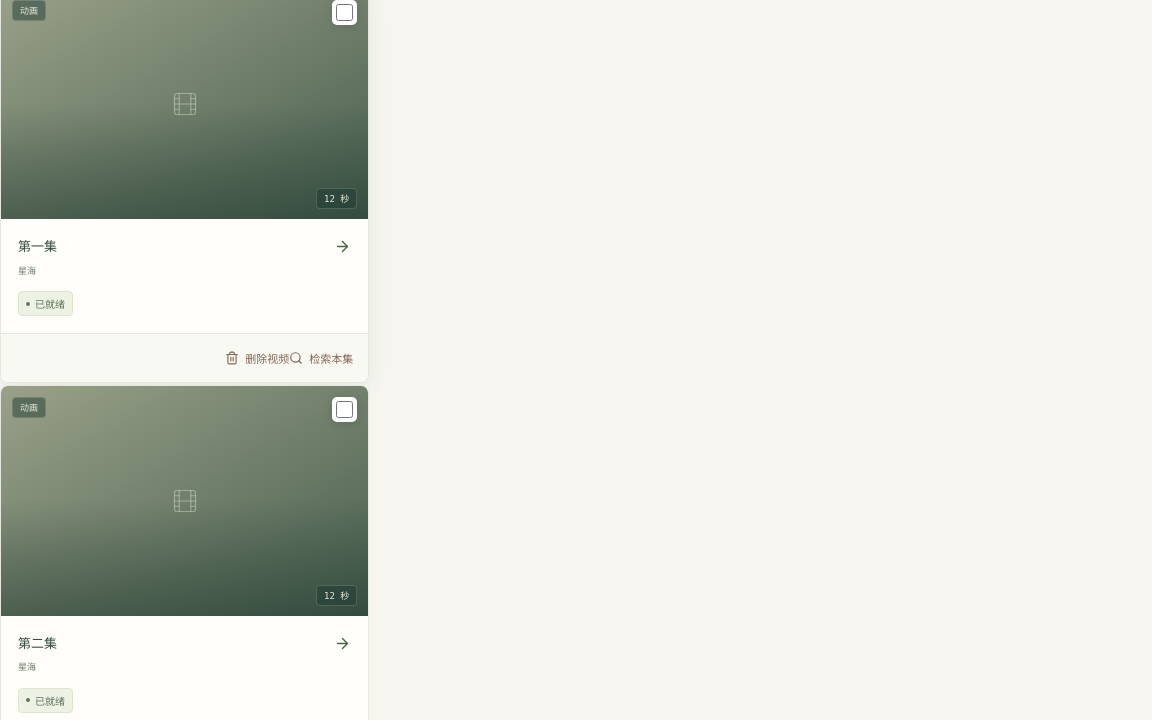
it: Deletion entry points and safe scope confirmation › offers an always-present card action and defaults to application data only
(page scrolled)
Click the button with aria-label "删除 第一集": (257, 358) 225,343 -> 289,373
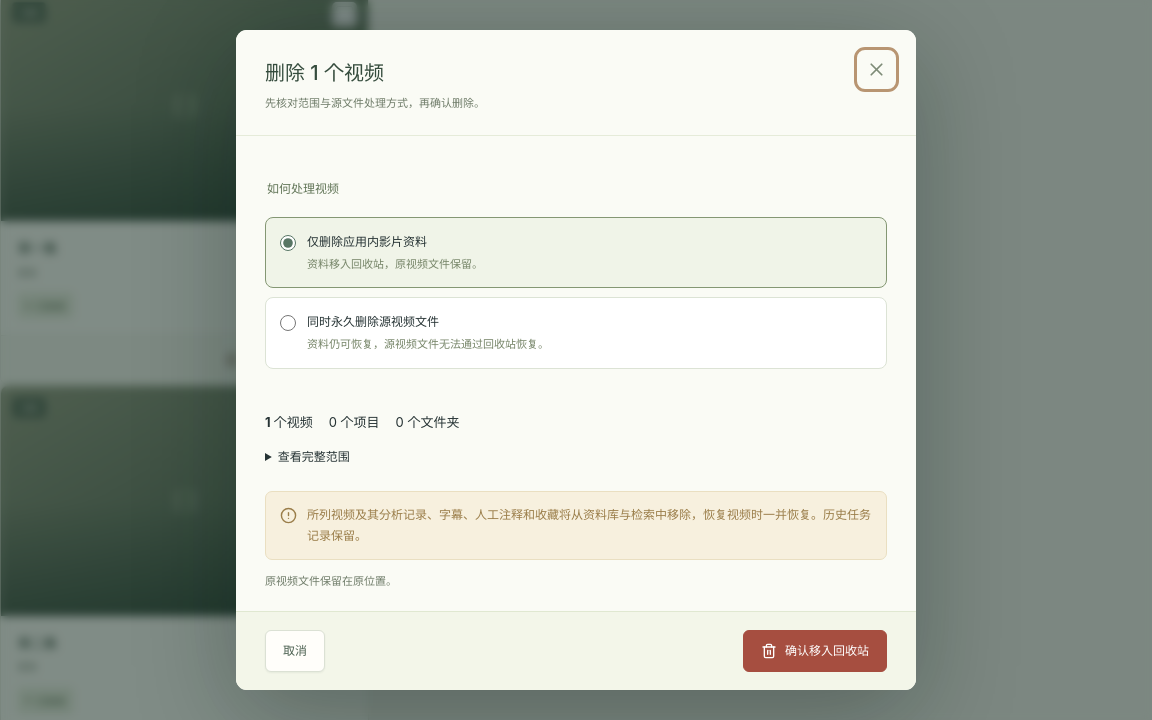
Now the text "1 个视频" is shown, box 265,411 -> 313,435
Now the radio button labelled "仅删除应用内影片资料 资料移入回收站，原视频文件保留。" is checked, box 280,235 -> 296,251
Click the button "确认移入回收站": (815, 651) 743,630 -> 887,672
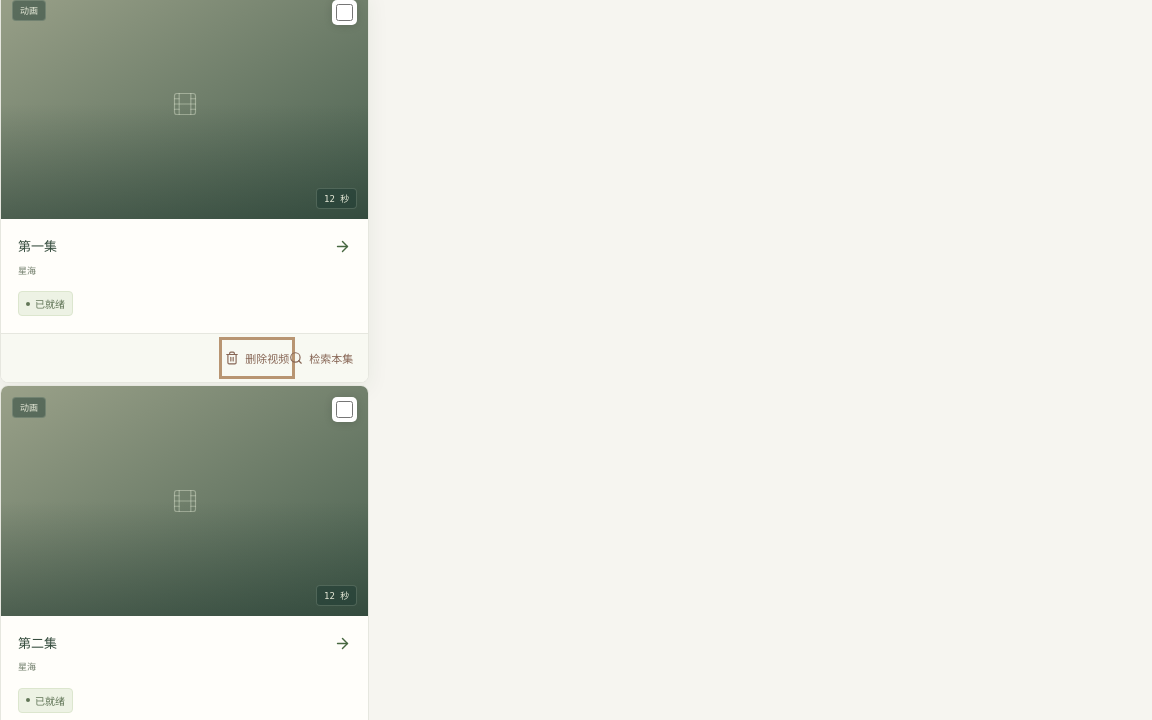
Now the dialog is gone
